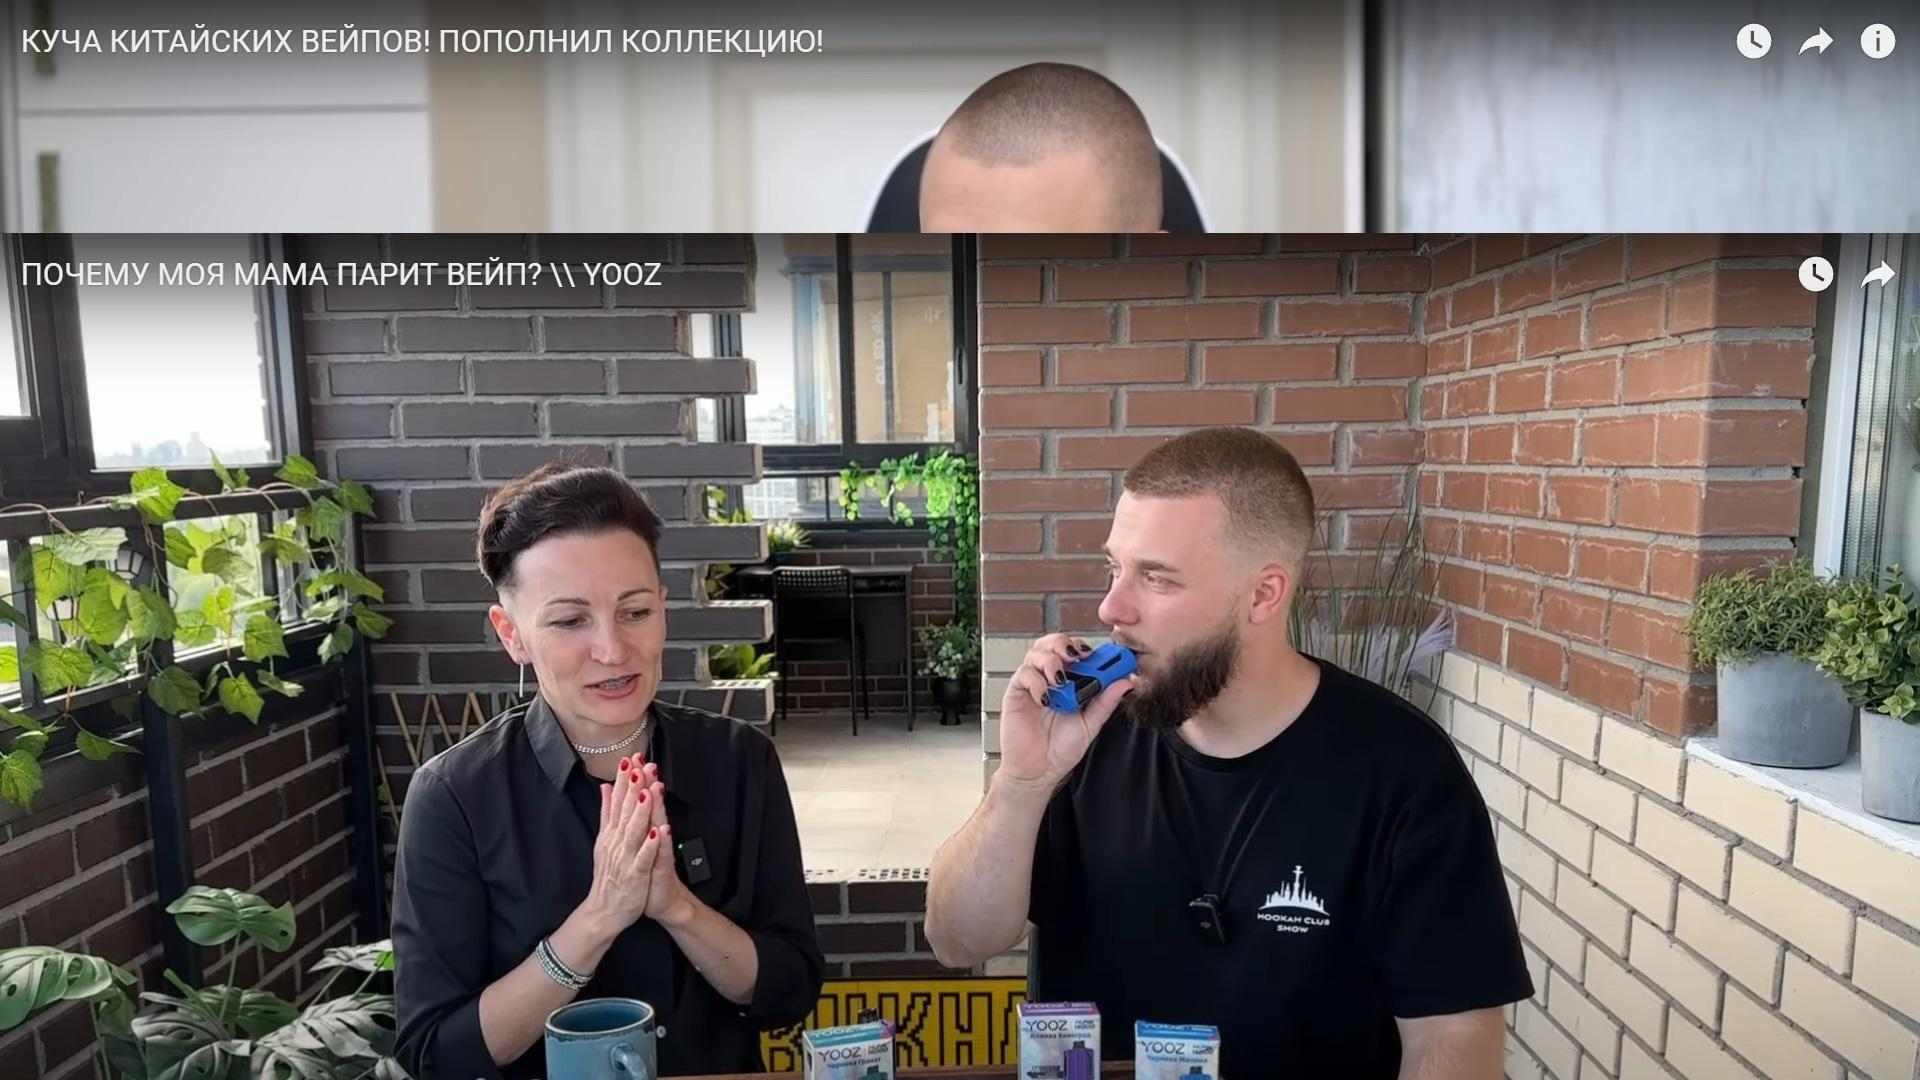Vape: (1047, 642, 1138, 715)
